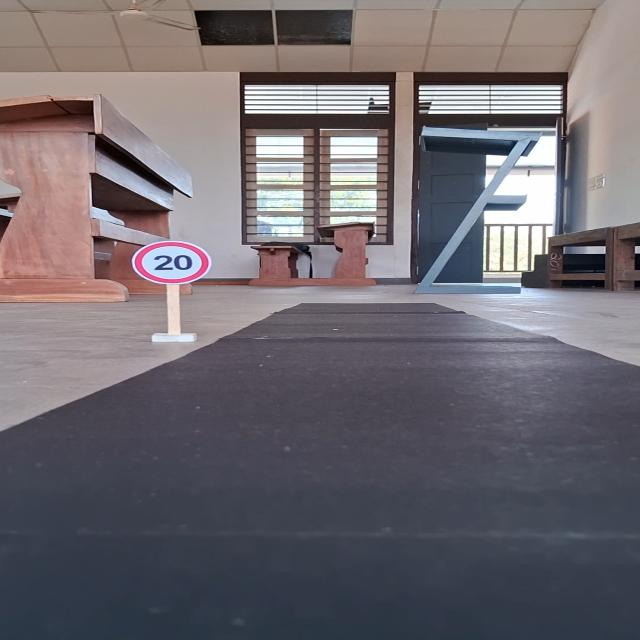Speed20: (130, 239, 212, 285)
